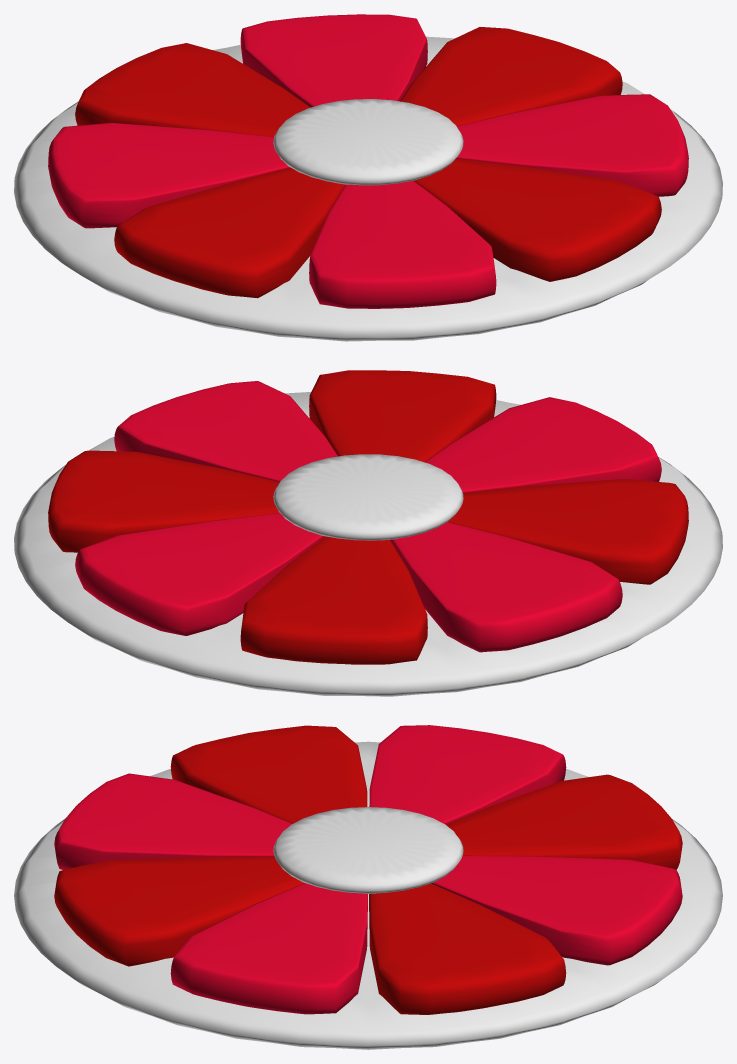
Rendered from koleso2.fbx.
3 views of the same model, one above another, from view 1: azimuth 30°, elevation 25°; view 2: azimuth 150°, elevation 25°; view 3: azimuth 270°, elevation 25° (orthographic).
Parts seen in each view (by area): view 1: Sphere.018, Sphere.017, Sphere.015, Sphere.016, Sphere.019, Sphere.011, Sphere.013, Sphere.014, Sphere.012, Sphere.003; view 2: Sphere.018, Sphere.019, Sphere.014, Sphere.013, Sphere.017, Sphere.012, Sphere.015, Sphere.011, Sphere.016, Sphere.003; view 3: Sphere.018, Sphere.011, Sphere.012, Sphere.014, Sphere.016, Sphere.015, Sphere.013, Sphere.019, Sphere.017, Sphere.003.
Boxes of the visible parts, x1,y1,x2,y2 form: Sphere.018: (14,36,722,341); Sphere.017: (114,167,345,298); Sphere.015: (309,181,496,308); Sphere.016: (413,158,661,281); Sphere.019: (48,122,290,228); Sphere.011: (456,94,688,196); Sphere.013: (75,43,310,136); Sphere.014: (240,14,427,107); Sphere.012: (400,27,622,126); Sphere.003: (273,99,463,185); Sphere.018: (14,392,722,696); Sphere.019: (390,522,622,652); Sphere.014: (75,513,324,635); Sphere.013: (240,536,427,664); Sphere.017: (447,479,688,584); Sphere.012: (48,450,279,552); Sphere.015: (425,397,661,492); Sphere.011: (114,381,337,481); Sphere.016: (309,370,496,462); Sphere.003: (273,454,463,540); Sphere.018: (14,741,722,1049); Sphere.011: (170,883,367,1014); Sphere.012: (369,883,566,1014); Sphere.014: (431,855,682,965); Sphere.016: (54,856,303,966); Sphere.015: (54,773,291,869); Sphere.013: (445,774,682,869); Sphere.019: (369,725,566,824); Sphere.017: (170,725,367,823); Sphere.003: (273,807,463,893).
Size of the model in its own units: 449 by 50.88 by 449.
